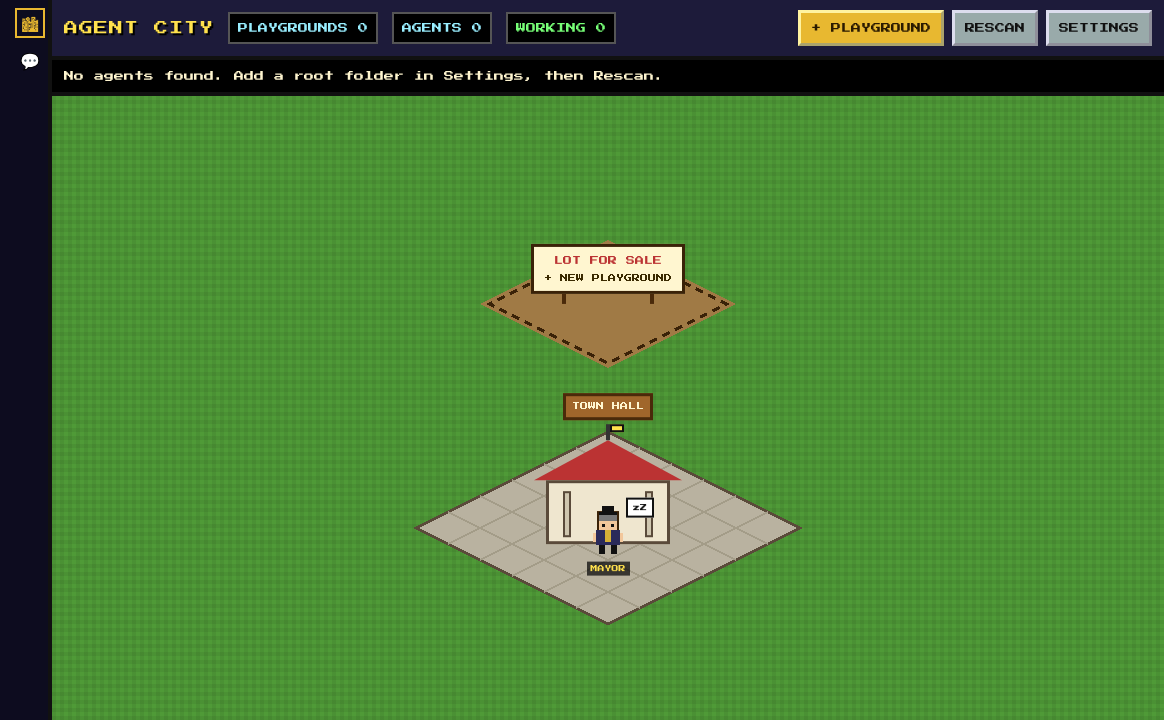
Scenario: the Rescan button refetches the agent list
Click the button "RESCAN".
click(995, 28)  # box [952,10,1038,46]
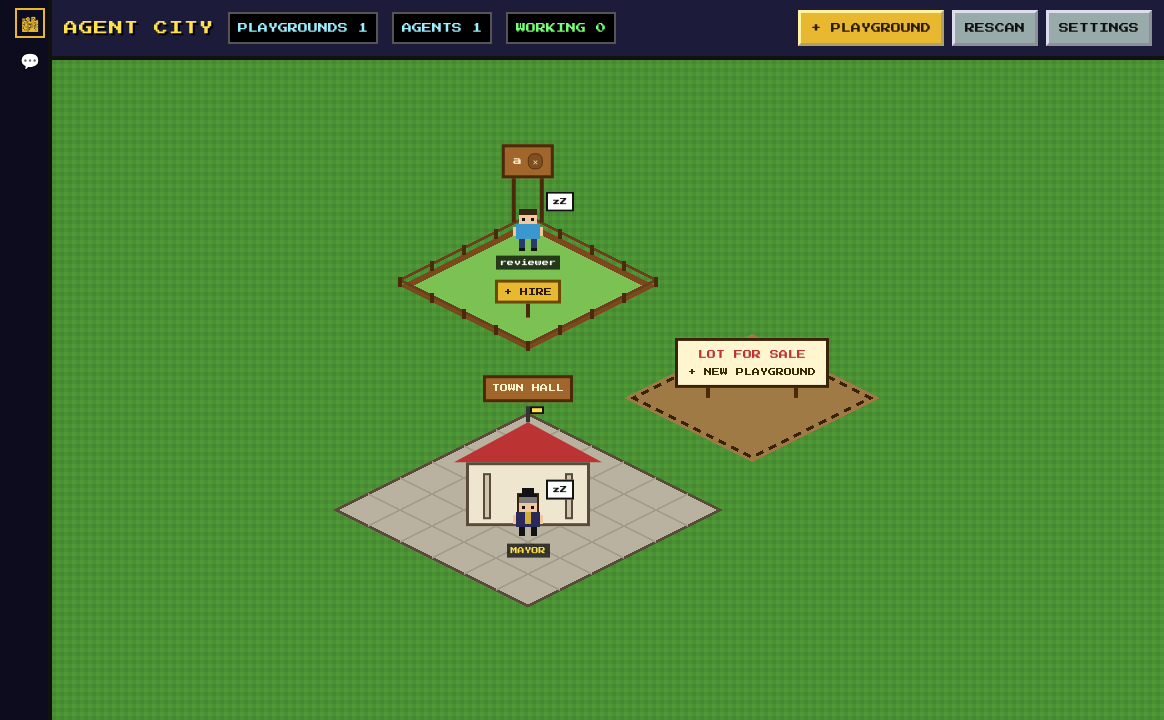
Check: the text "reviewer" is shown, box [496,256,560,270]
